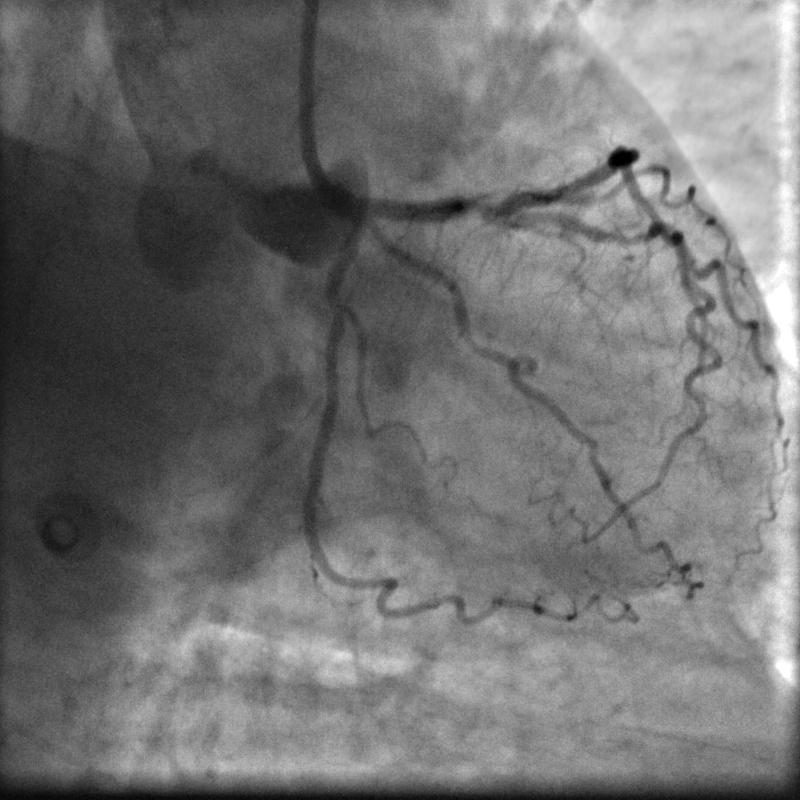Stenosis: (461, 193, 498, 227)
